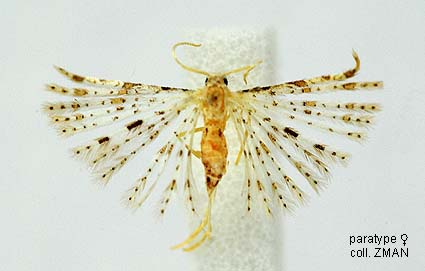Alucitidae: (29, 36, 385, 250)
moth: (27, 34, 383, 248)
